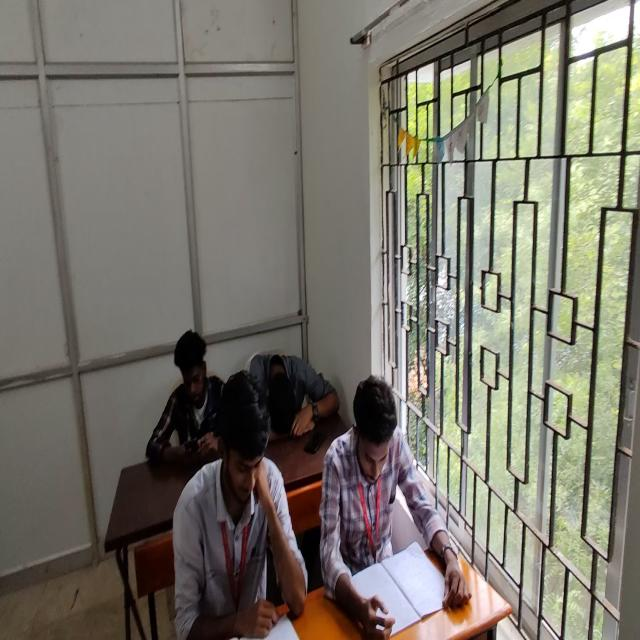reading: (171, 368, 307, 640), (336, 374, 456, 630)
sleeping: (250, 352, 338, 441)
using_mobile: (146, 330, 226, 467)
